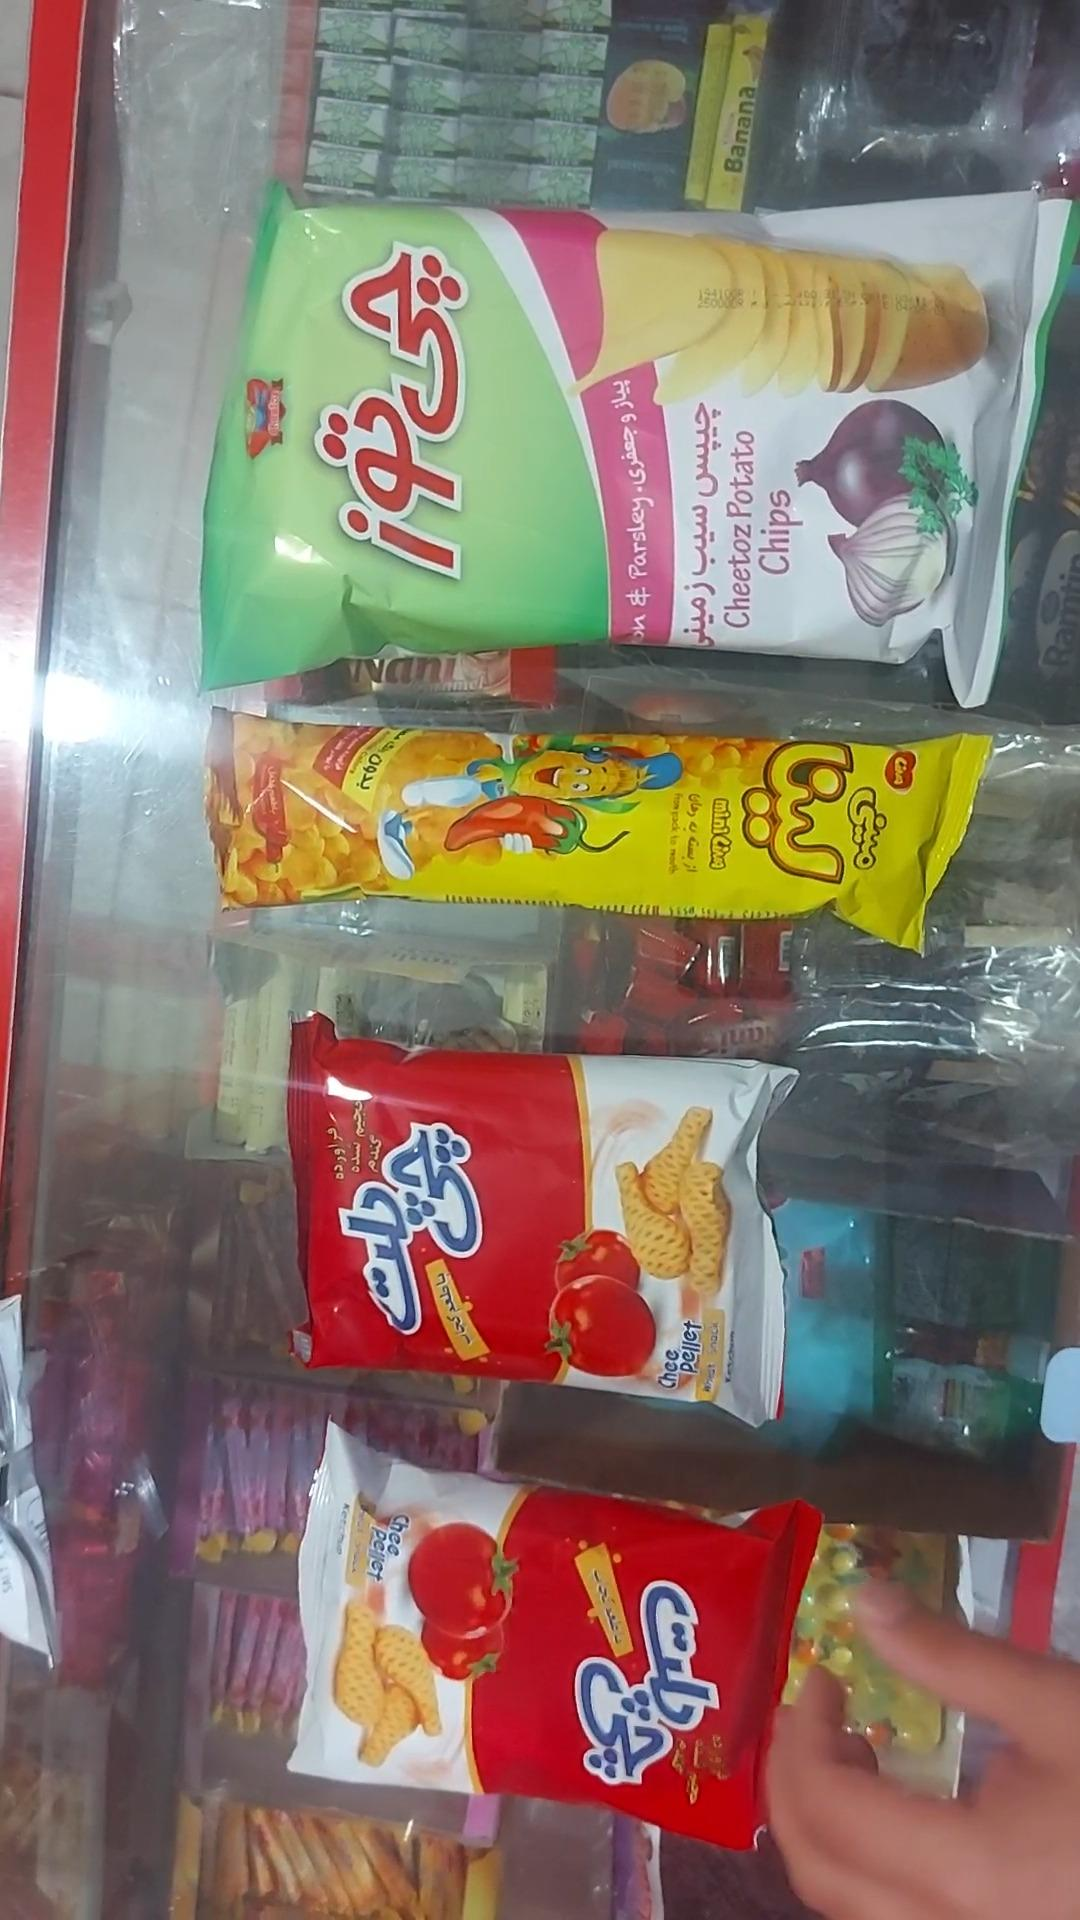Chee pellet ketchup: (285, 1420, 824, 1853), (285, 1011, 800, 1429)
Cheetoz onion and parsley chips: (202, 186, 1079, 711)
Mini Lina: (204, 708, 996, 952)
